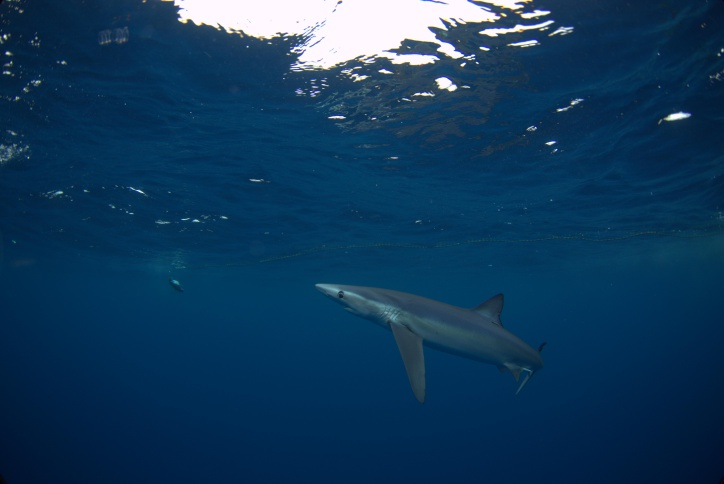Azul: (291, 251, 572, 415)
